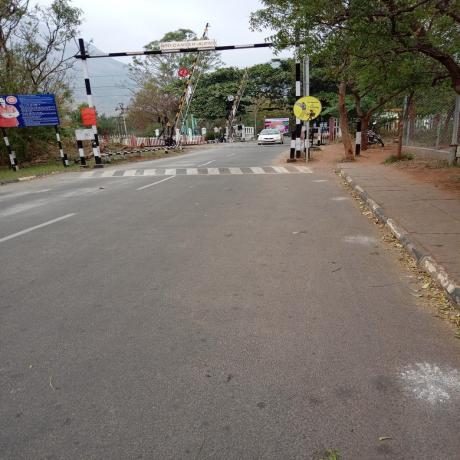Speed Bump: (49, 163, 320, 178)
